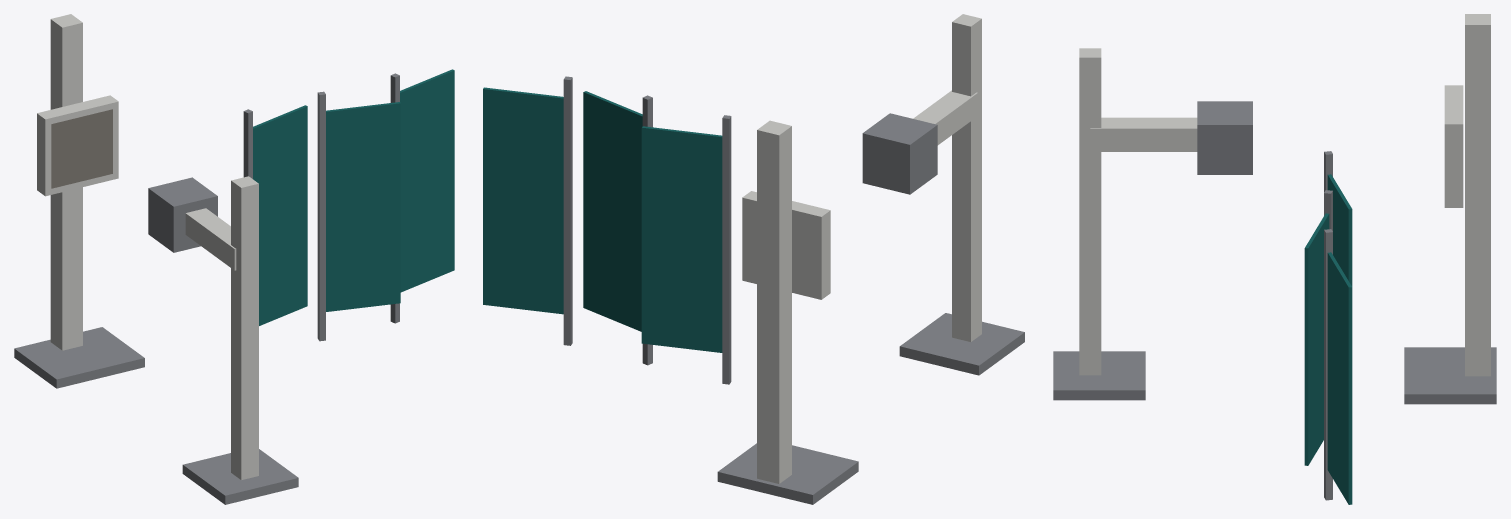
The model's file is prop_xray-stand.2844775a870a.glb.
The picture shows the model from 3 angles, left to right: view 1: azimuth 30°, elevation 25°; view 2: azimuth 150°, elevation 25°; view 3: azimuth 270°, elevation 25°; orthographic projection. The views are drawn at different scales.
Visible parts, largest first — view 1: body; view 2: body; view 3: body.
Boxes of the visible parts, x1,y1,x2,y2 form: body: (14, 14, 454, 504); body: (483, 14, 1024, 504); body: (1053, 14, 1496, 504).
Size of the model in its own units: 2.54 by 2.16 by 2.4.
